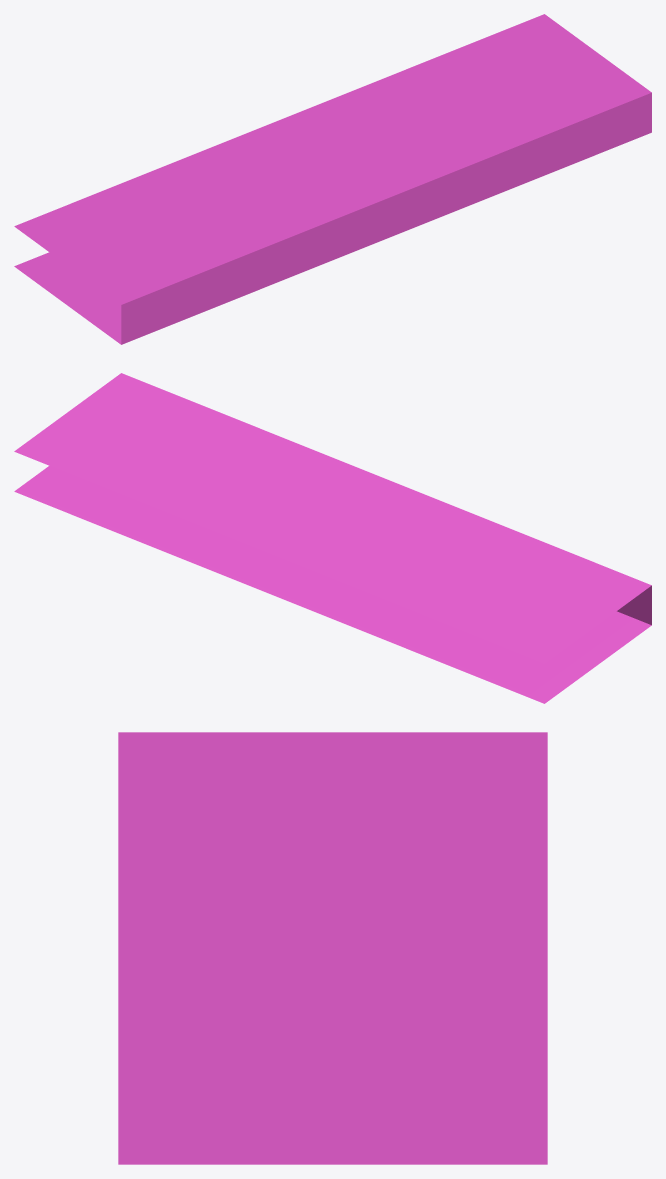
The model's file is SM_RampHillPieceRight.fbx.
3 views of the same model, one above another, from view 1: azimuth 30°, elevation 25°; view 2: azimuth 150°, elevation 25°; view 3: azimuth 270°, elevation 25° (orthographic). The views are drawn at different scales.
Parts seen in each view (by area): view 1: SM_RampHillPieceRight; view 2: SM_RampHillPieceRight; view 3: SM_RampHillPieceRight.
Boxes of the visible parts, <box> form: SM_RampHillPieceRight: <box>14,14,651,344</box>; SM_RampHillPieceRight: <box>14,373,651,703</box>; SM_RampHillPieceRight: <box>118,732,547,1164</box>.
Size of the model in its own units: 1388 by 307 by 486.
